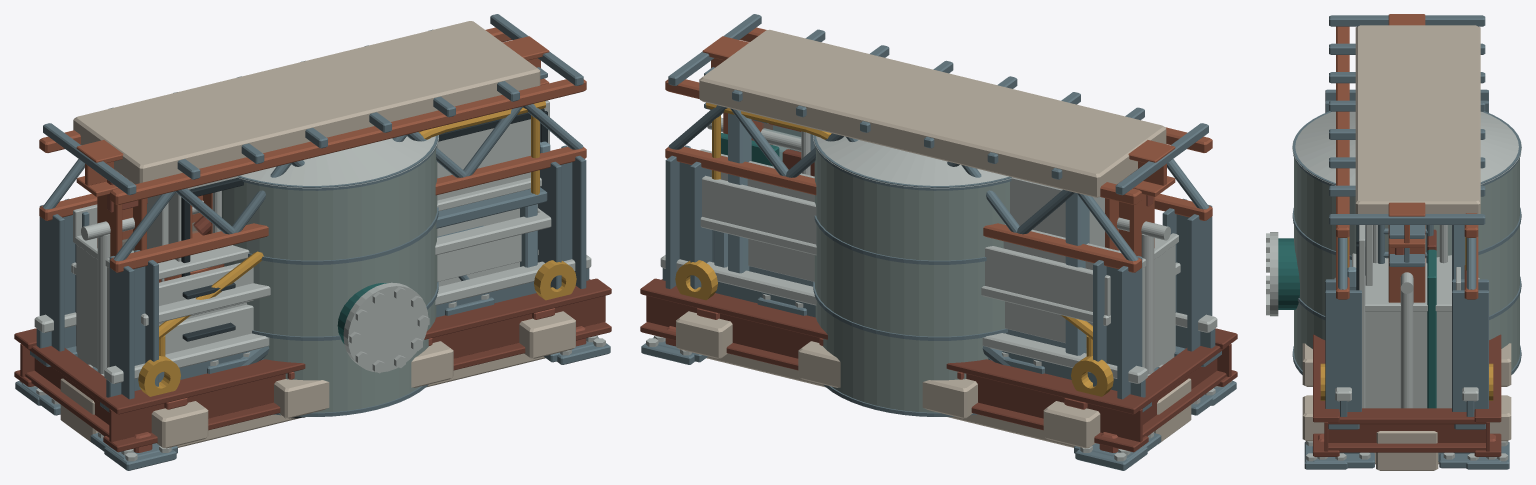
File: exhibits.glb
3 renders of one model, left to right at view 1: azimuth 30°, elevation 25°; view 2: azimuth 150°, elevation 25°; view 3: azimuth 270°, elevation 25°, orthographic. The views are drawn at different scales.
Visible parts, largest first — view 1: Exhibit02, Exhibit10, Exhibit15, Exhibit01, Exhibit13, Exhibit16, Exhibit09, Exhibit05, Exhibit06, Exhibit03, Exhibit11, Exhibit12 (+2 smaller); view 2: Exhibit02, Exhibit15, Exhibit10, Exhibit01, Exhibit05, Exhibit13, Exhibit16, Exhibit03, Exhibit11, Exhibit06, Exhibit09, Exhibit12 (+1 smaller); view 3: Exhibit15, Exhibit02, Exhibit10, Exhibit01, Exhibit16, Exhibit11, Exhibit13, Exhibit03, Exhibit07, Exhibit09, Exhibit08, Exhibit04.
Boxes of the visible parts, x1=… form: Exhibit02: x1=222, y1=135, x2=438, y2=416; Exhibit10: x1=21, y1=14, x2=598, y2=459; Exhibit15: x1=73, y1=21, x2=540, y2=232; Exhibit01: x1=14, y1=260, x2=611, y2=470; Exhibit13: x1=30, y1=255, x2=591, y2=448; Exhibit16: x1=73, y1=177, x2=541, y2=368; Exhibit09: x1=168, y1=100, x2=550, y2=286; Exhibit05: x1=71, y1=208, x2=551, y2=325; Exhibit06: x1=159, y1=101, x2=547, y2=366; Exhibit03: x1=76, y1=36, x2=549, y2=280; Exhibit11: x1=60, y1=200, x2=203, y2=443; Exhibit12: x1=177, y1=353, x2=545, y2=447; Exhibit02: x1=810, y1=134, x2=1011, y2=416; Exhibit15: x1=699, y1=29, x2=1166, y2=355; Exhibit10: x1=653, y1=14, x2=1230, y2=459; Exhibit01: x1=640, y1=260, x2=1237, y2=470; Exhibit05: x1=700, y1=175, x2=1180, y2=347; Exhibit13: x1=660, y1=255, x2=1221, y2=448; Exhibit16: x1=700, y1=145, x2=1178, y2=368; Exhibit03: x1=702, y1=36, x2=1175, y2=256; Exhibit11: x1=707, y1=117, x2=1191, y2=443; Exhibit06: x1=706, y1=102, x2=1092, y2=366; Exhibit09: x1=773, y1=125, x2=1065, y2=237; Exhibit12: x1=706, y1=353, x2=1074, y2=447; Exhibit15: x1=1355, y1=25, x2=1480, y2=279; Exhibit02: x1=1266, y1=111, x2=1521, y2=374; Exhibit10: x1=1312, y1=15, x2=1501, y2=468; Exhibit01: x1=1304, y1=334, x2=1509, y2=469; Exhibit16: x1=1352, y1=253, x2=1460, y2=408; Exhibit11: x1=1376, y1=272, x2=1438, y2=470; Exhibit13: x1=1302, y1=343, x2=1511, y2=441; Exhibit03: x1=1388, y1=14, x2=1425, y2=302; Exhibit07: x1=1427, y1=229, x2=1444, y2=462; Exhibit09: x1=1347, y1=225, x2=1365, y2=408; Exhibit08: x1=1389, y1=225, x2=1424, y2=266; Exhibit04: x1=1365, y1=225, x2=1372, y2=285.
Bounding box in the file's own units: 5.65 × 3.05 × 2.79.
